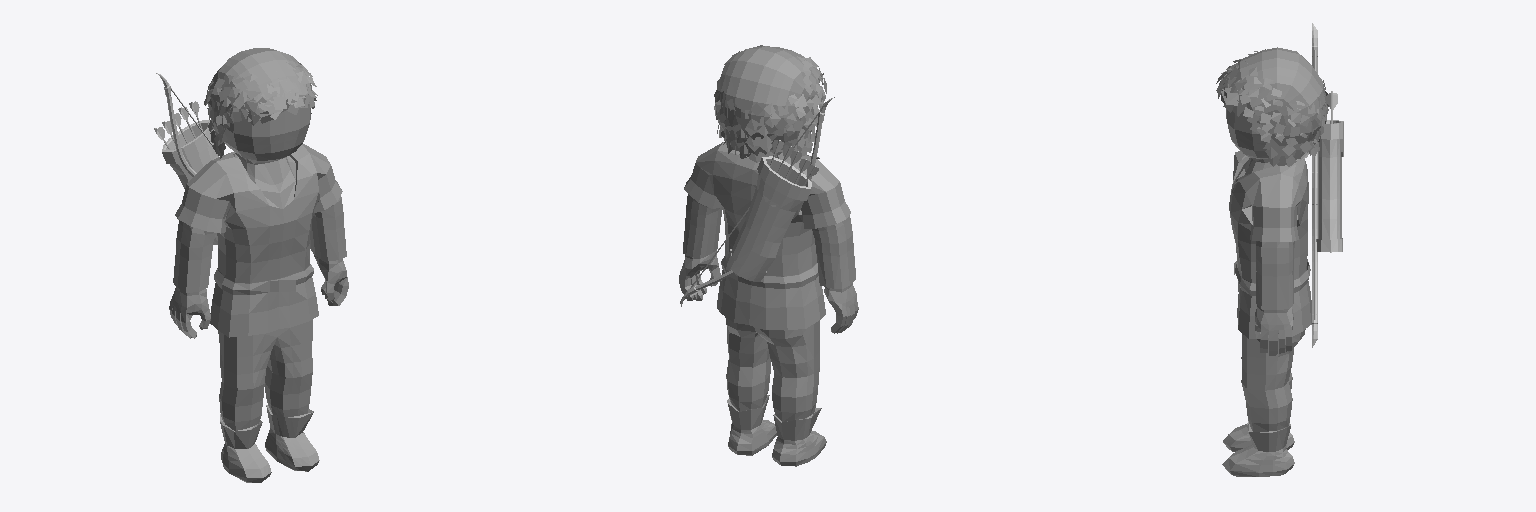
The model's file is YoungRanger_obj.obj.
3 views of the same model, side by side, from view 1: azimuth 30°, elevation 25°; view 2: azimuth 150°, elevation 25°; view 3: azimuth 270°, elevation 25° (orthographic).
Visible parts, largest first — view 1: Plane.002_Plane.001, Circle.000_Circle.006, Circle.002_Circle.008; view 2: Plane.002_Plane.001, Circle.000_Circle.006, Circle.002_Circle.008; view 3: Plane.002_Plane.001, Circle.000_Circle.006, Circle.002_Circle.008.
Boxes of the visible parts, box(x1,y1,x2,y2) form: Plane.002_Plane.001: box(169, 48, 348, 482); Circle.000_Circle.006: box(162, 120, 218, 244); Circle.002_Circle.008: box(156, 73, 219, 176); Plane.002_Plane.001: box(679, 45, 858, 466); Circle.000_Circle.006: box(726, 156, 811, 281); Circle.002_Circle.008: box(680, 97, 834, 306); Plane.002_Plane.001: box(1216, 47, 1328, 476); Circle.000_Circle.006: box(1316, 120, 1343, 252); Circle.002_Circle.008: box(1312, 23, 1317, 347).
Size of the model in its own units: 4.14 by 9.52 by 2.72.